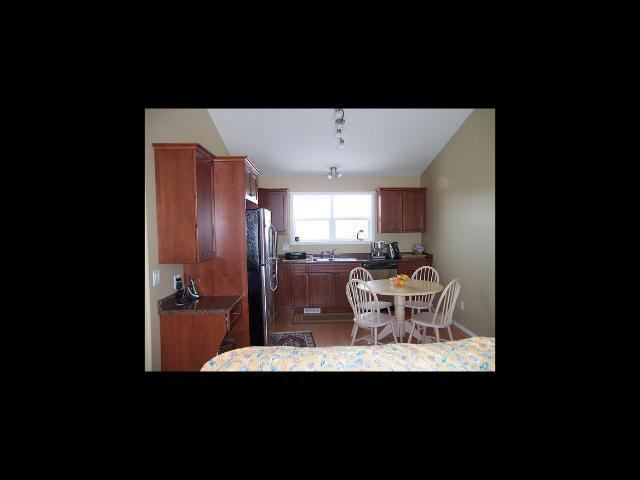Lavaplatos: (309, 247, 357, 265)
